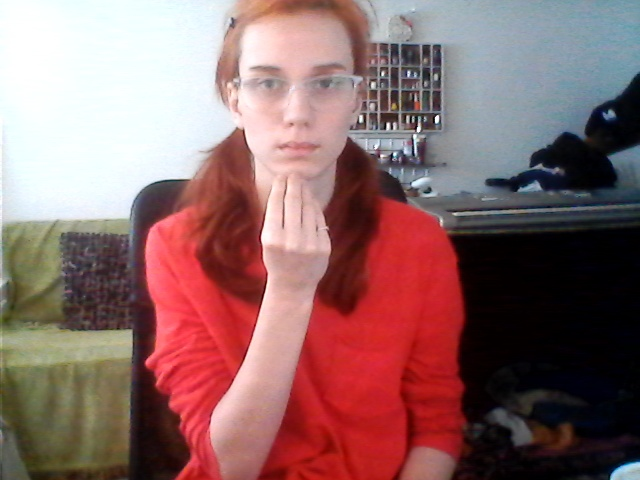c: (250, 165, 345, 280)
